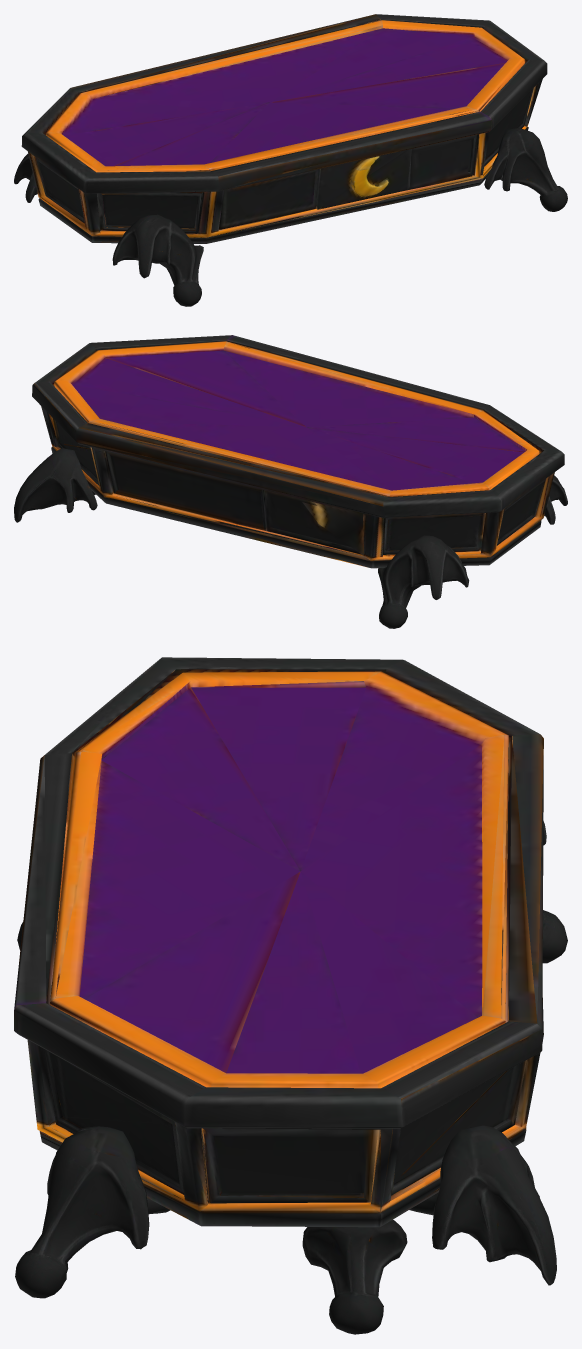
File: halloween_coffin_coffee_table.glb
3 views of the same model, one above another, from view 1: azimuth 30°, elevation 25°; view 2: azimuth 150°, elevation 25°; view 3: azimuth 270°, elevation 25° (orthographic). The views are drawn at different scales.
Parts seen in each view (by area): view 1: furniture-fit; view 2: furniture-fit; view 3: furniture-fit.
Boxes of the visible parts, x1,y1,x2,y2 form: furniture-fit: (14, 14, 567, 306); furniture-fit: (14, 335, 567, 628); furniture-fit: (14, 657, 567, 1334).
Size of the model in its own units: 2.7 by 0.6646 by 1.4.
Materials: 1 (1 with a texture image).
